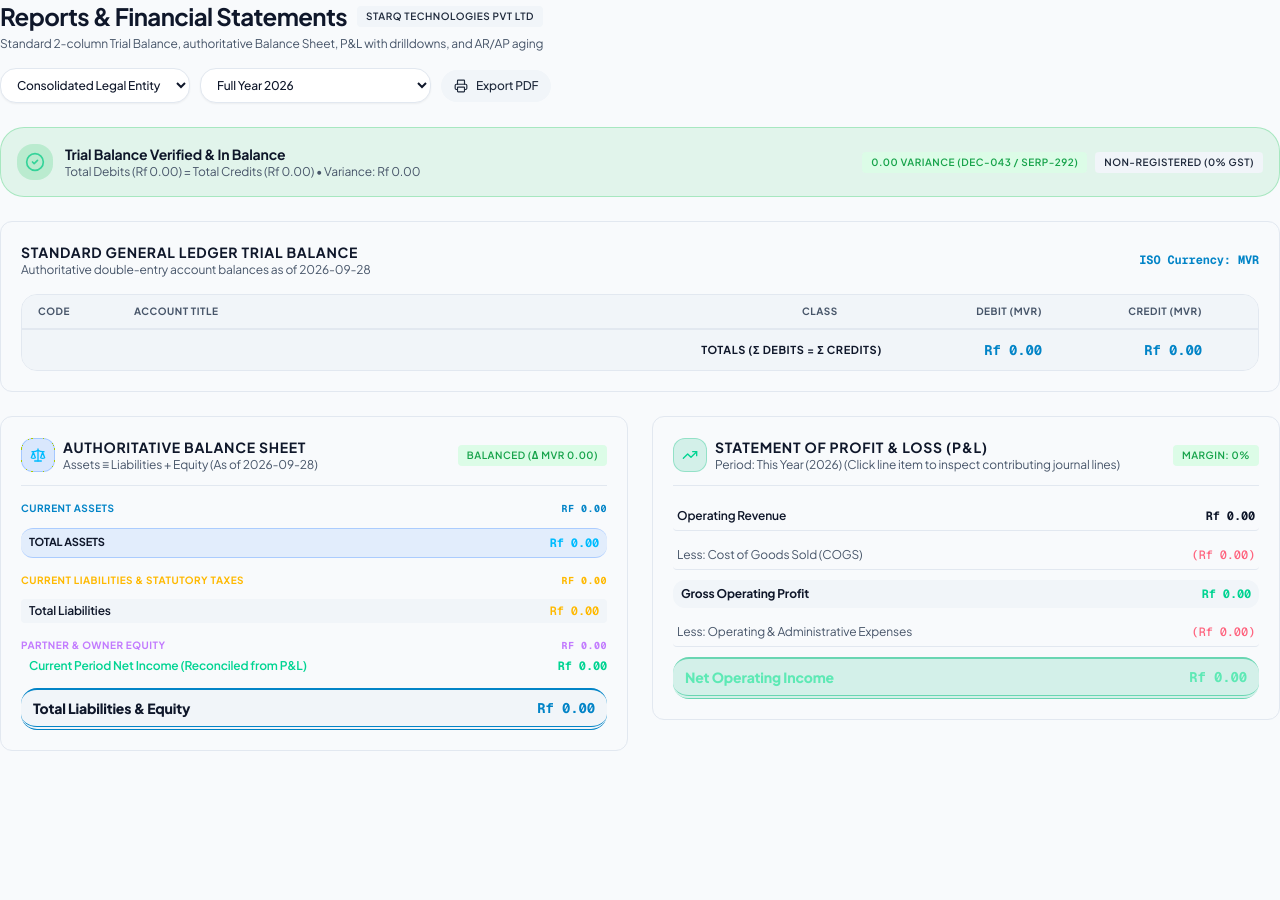
Scenario: SERP-293: Authoritative P&L Drilldowns & AR/AP Aging Matrices › renders P&L statement and opens Drilldown Drawer on line click
Expected: the element with test id "profit-and-loss-section" is shown, [652, 416, 1279, 720]
Expected: the heading "Statement of Profit & Loss (P&L)" is shown, [715, 438, 988, 456]
Note: Click Operating Revenue line item
Click the element with test id "pnl-line-revenue": click(966, 517) [673, 502, 1259, 531]
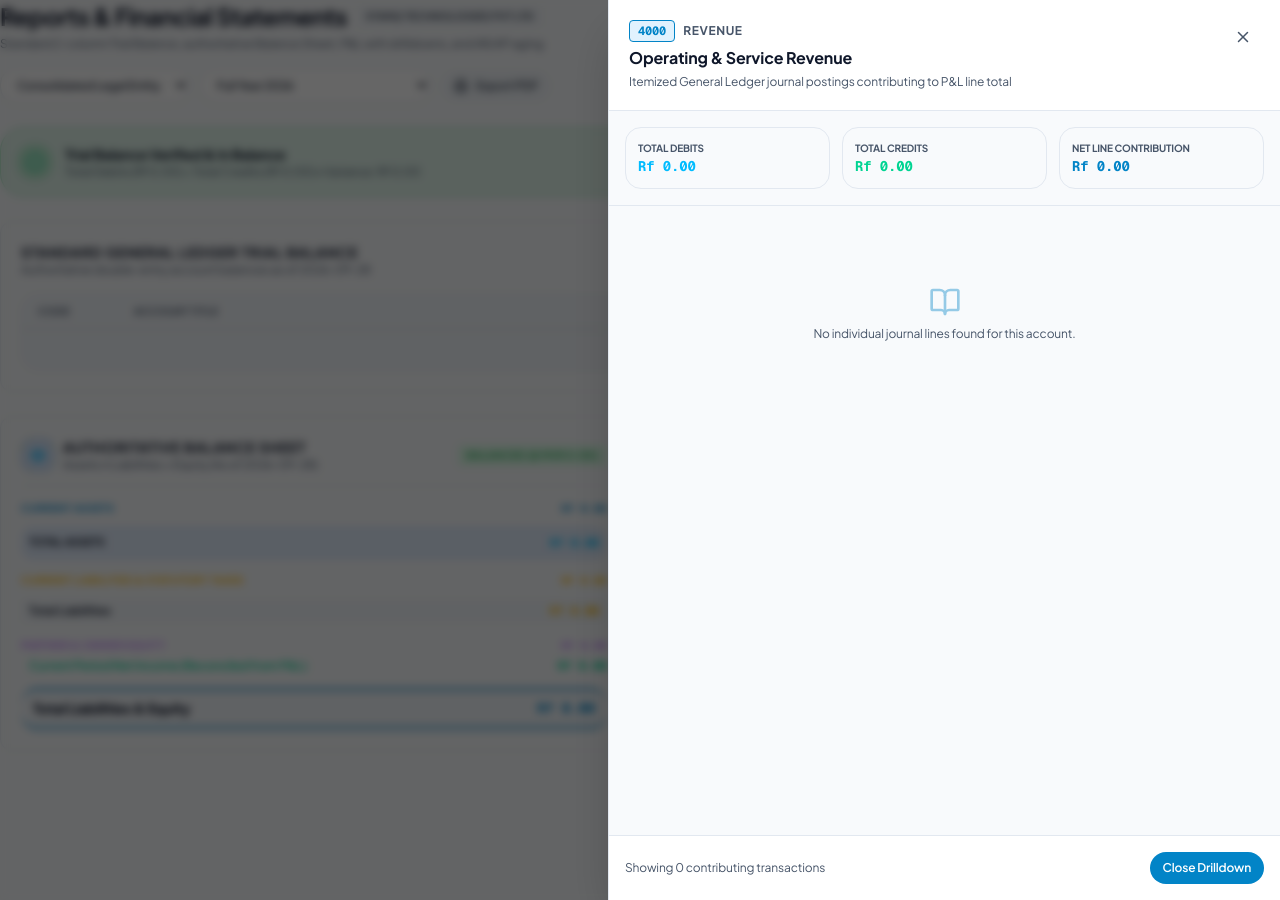
Now the element with test id "pnl-drilldown-drawer" is shown
Now the heading "Operating & Service Revenue" is shown, box [629, 47, 852, 68]
Now the text "Itemized General Ledger journal postings" is shown, box [629, 74, 1012, 89]
Note: Close Drawer
Click the button "Close Drilldown": click(1207, 868) [1150, 852, 1264, 884]
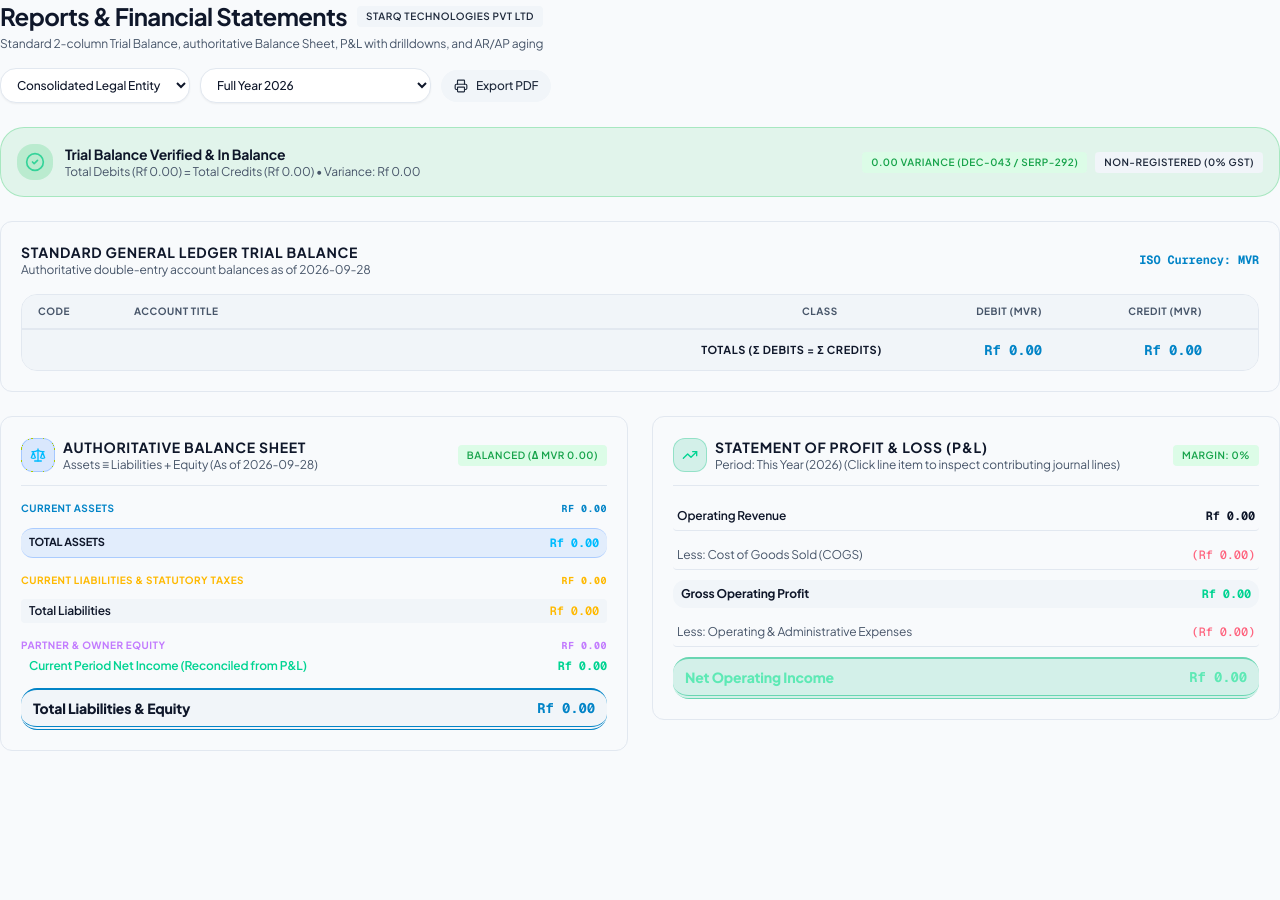
Now the element with test id "pnl-drilldown-drawer" is gone
